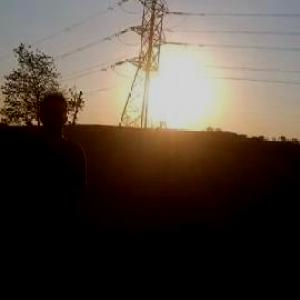follow: (1, 83, 90, 299)
